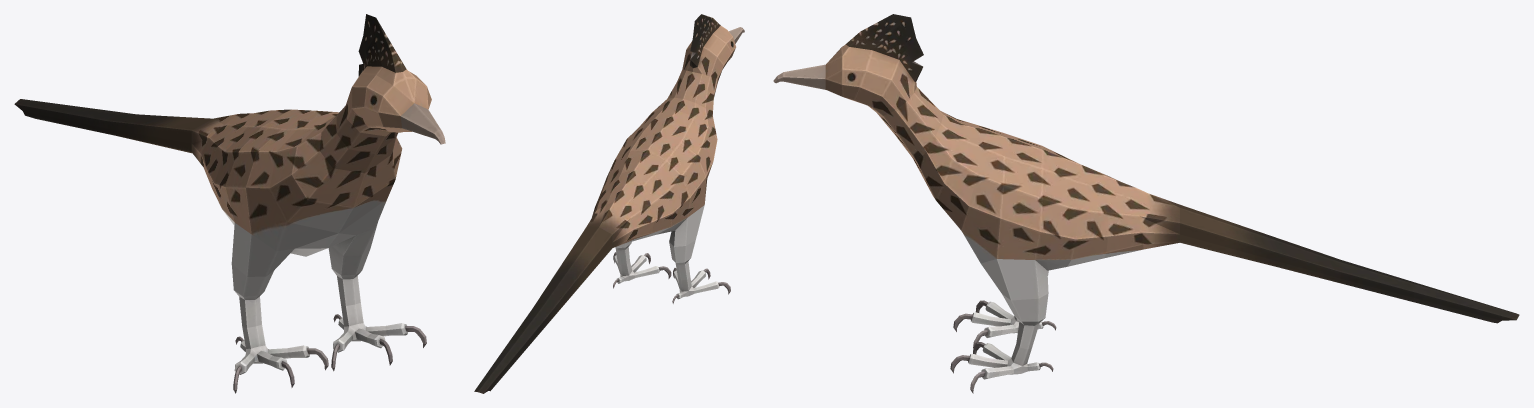
Rendered from eV6_-Q9dMg9.glb.
3 renders of one model, left to right at view 1: azimuth 30°, elevation 25°; view 2: azimuth 150°, elevation 25°; view 3: azimuth 270°, elevation 25°, orthographic. The views are drawn at different scales.
Visible parts, largest first — view 1: Roadrunner_mesh; view 2: Roadrunner_mesh; view 3: Roadrunner_mesh.
Part boxes in pixels (x1,y1,x2,y2): Roadrunner_mesh: (14,14,445,393); Roadrunner_mesh: (474,14,744,393); Roadrunner_mesh: (773,14,1519,393).
Bounding box in the file's own units: 0.5101 × 0.9999 × 1.97.
1 material, 1 textured.
